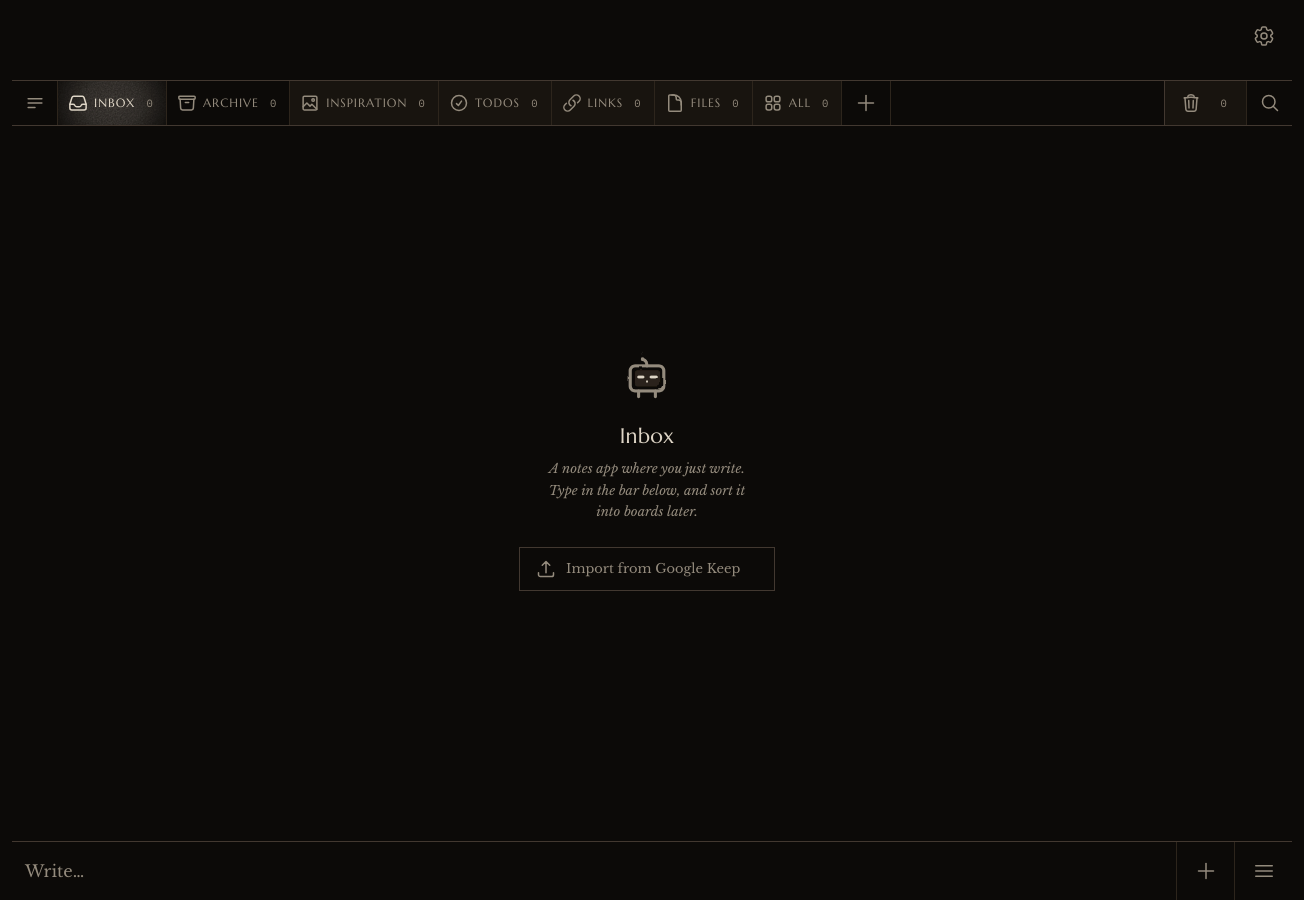
Test: an app nothing has been written into yet › hands the board over to the first note
expect the element with class "empty" is shown: met, box [519, 423, 775, 591]
Type "the first thing I ever wrote here" into the text box named "Write a note". click: point(594, 872)
box: [12, 843, 1176, 899]
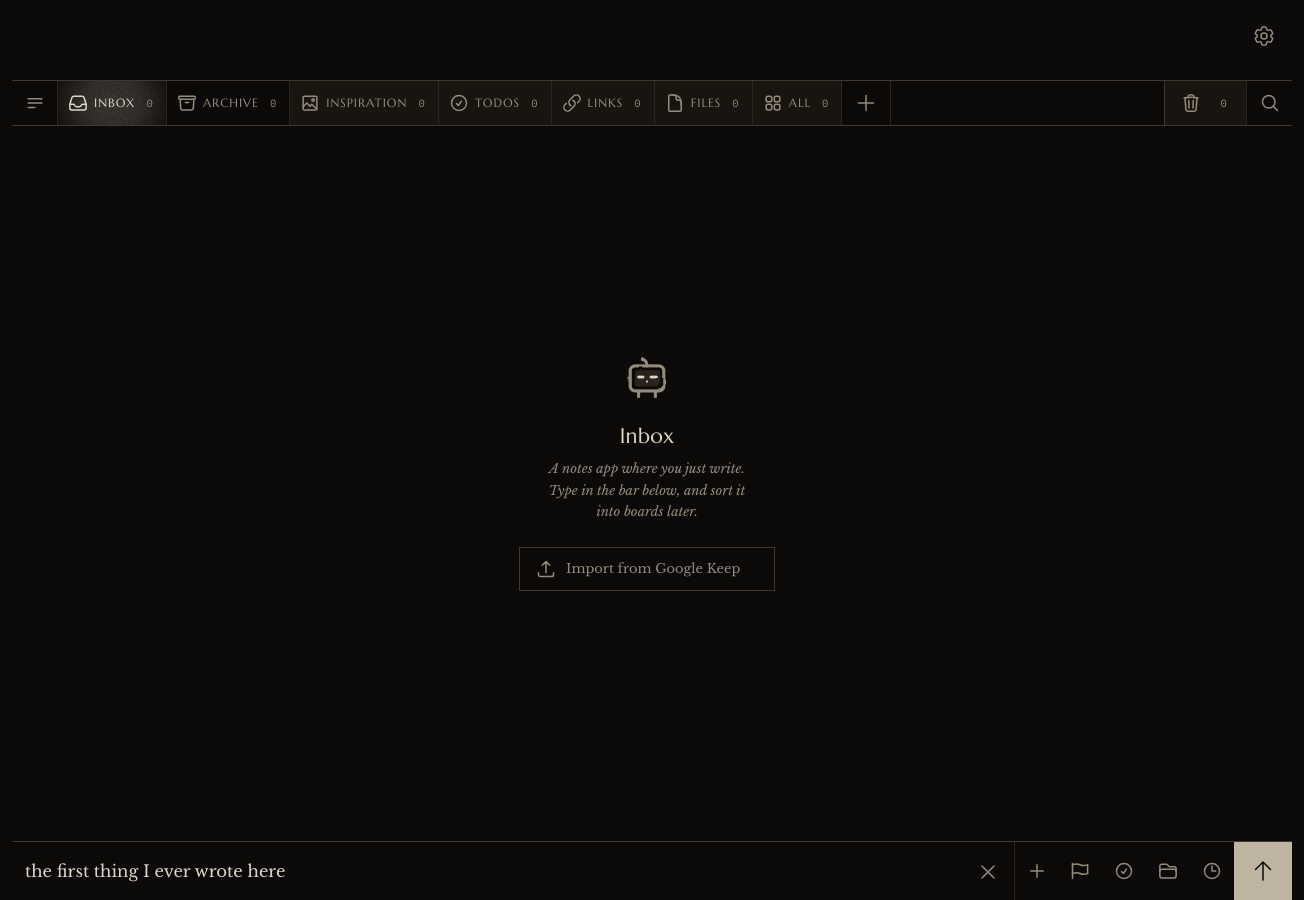
Click the button named "Save note". click: point(1263, 871)
box: [1234, 842, 1292, 899]
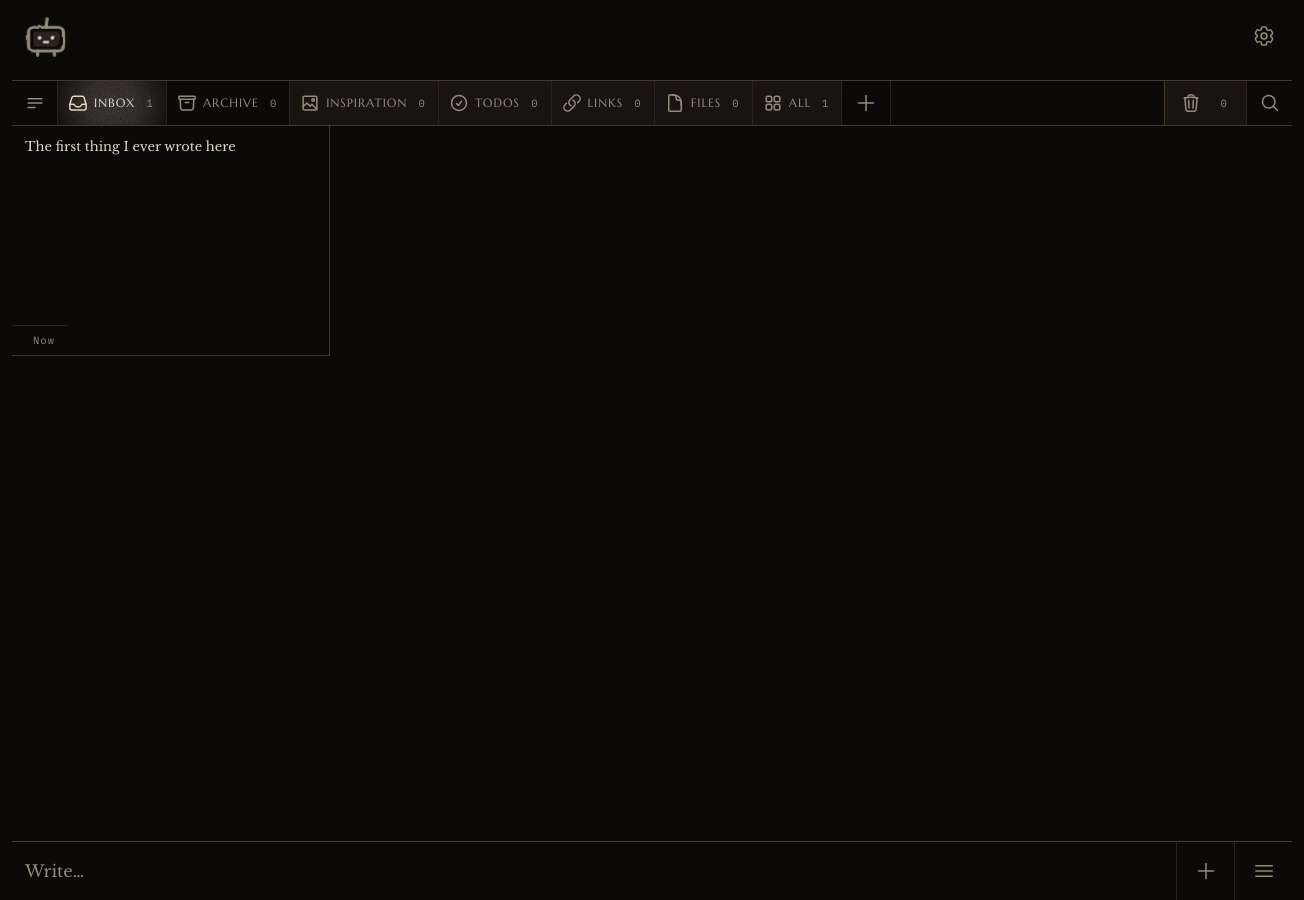
expect the button "The first thing I ever wrote here Now" is shown: met, box [12, 126, 330, 356]
expect the picture with class "empty" is gone: met
